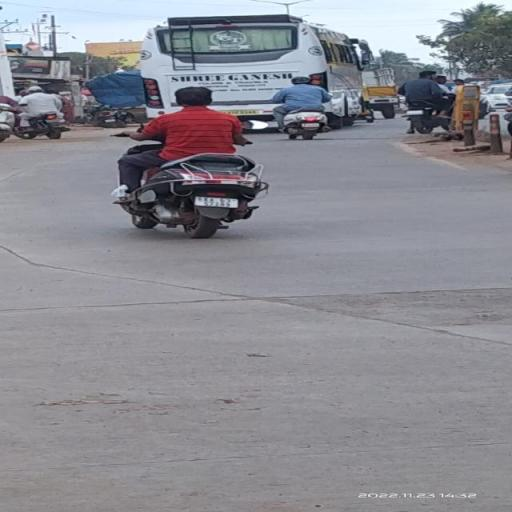bike: (104, 85, 274, 240)
numberplate: (194, 195, 242, 208)
withouthelmet: (176, 88, 212, 106)
